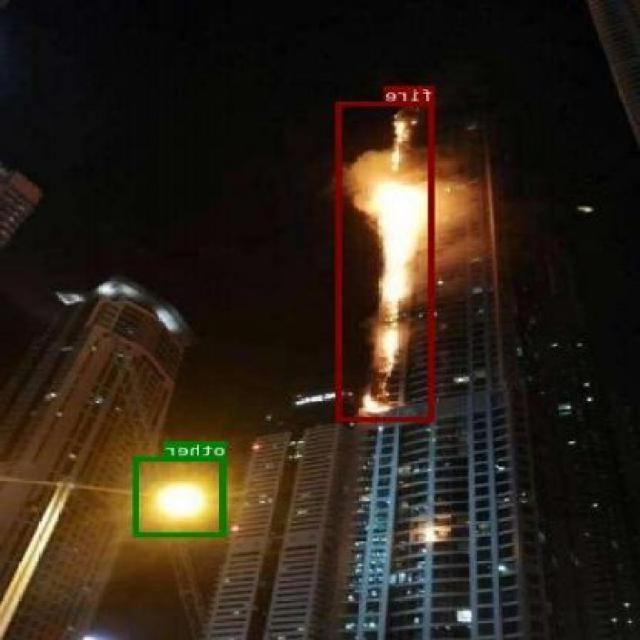Fire: (338, 101, 434, 421)
